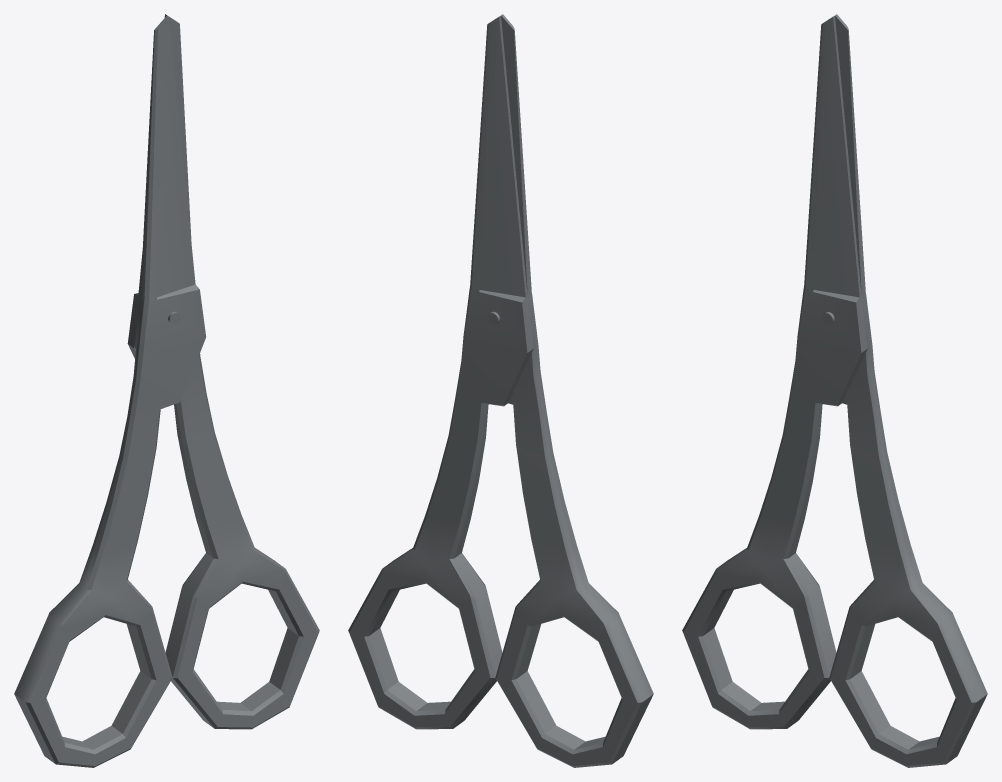
File: PRP_NURSE_TOOL_03.FBX
3 renders of one model, left to right at view 1: azimuth 30°, elevation 25°; view 2: azimuth 150°, elevation 25°; view 3: azimuth 330°, elevation 25°, orthographic.
Parts seen in each view (by area): view 1: PRP_NURSE_TOOL_03; view 2: PRP_NURSE_TOOL_03; view 3: PRP_NURSE_TOOL_03.
Boxes of the visible parts, box(x1,y1,x2,y2) form: PRP_NURSE_TOOL_03: box(14, 14, 319, 767); PRP_NURSE_TOOL_03: box(348, 14, 653, 767); PRP_NURSE_TOOL_03: box(682, 14, 987, 767).
Bounding box in the file's own units: 5.3 × 12.54 × 0.4942.
